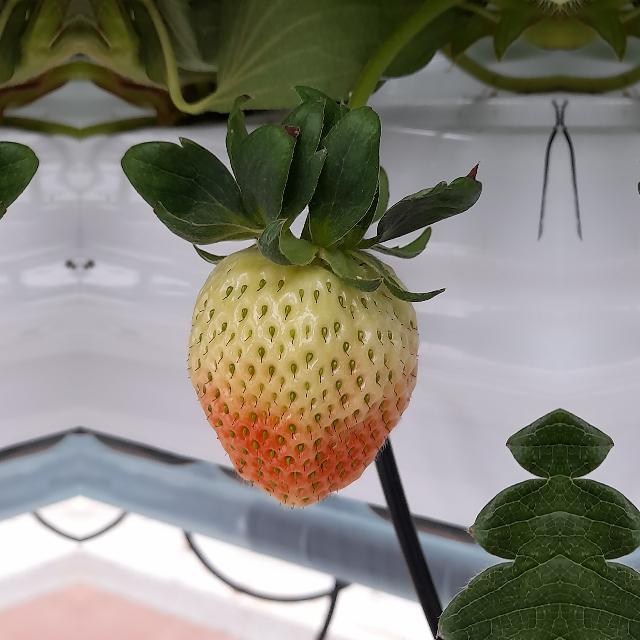Health_50: (188, 244, 418, 506)
